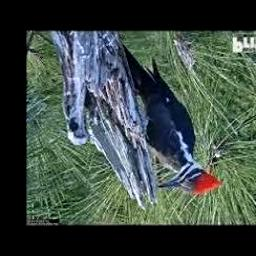Woodpecker: (120, 41, 221, 195)
